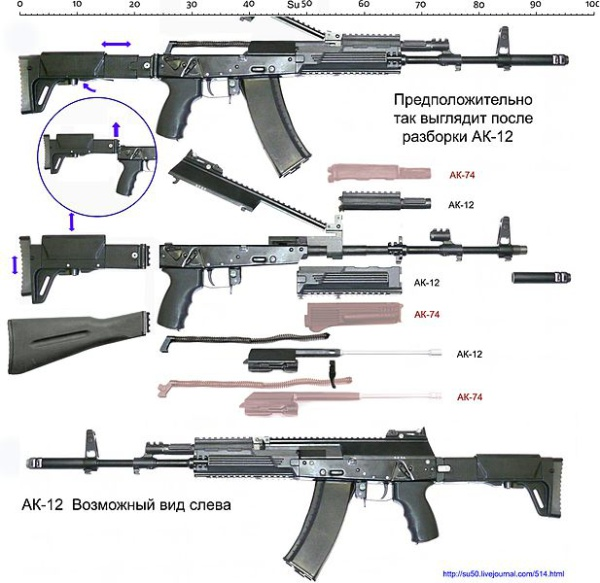ak47: (18, 16, 570, 173), (27, 428, 562, 578)
